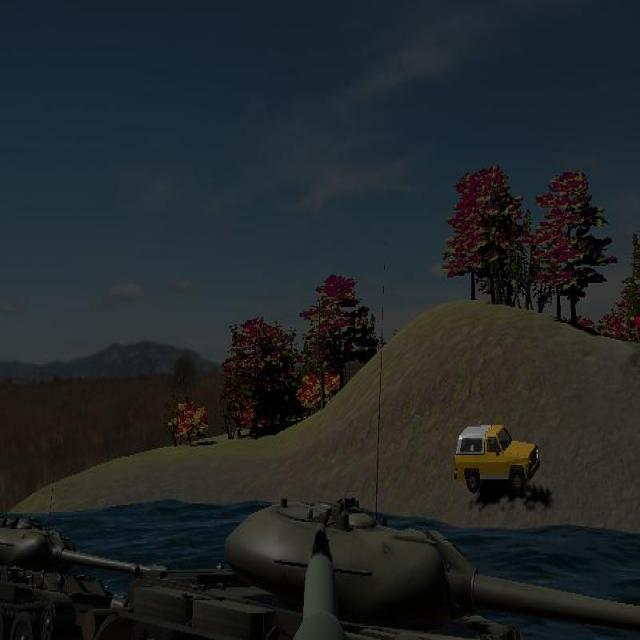Tank: (129, 491, 623, 640), (1, 513, 172, 639)
car: (454, 419, 540, 497)
